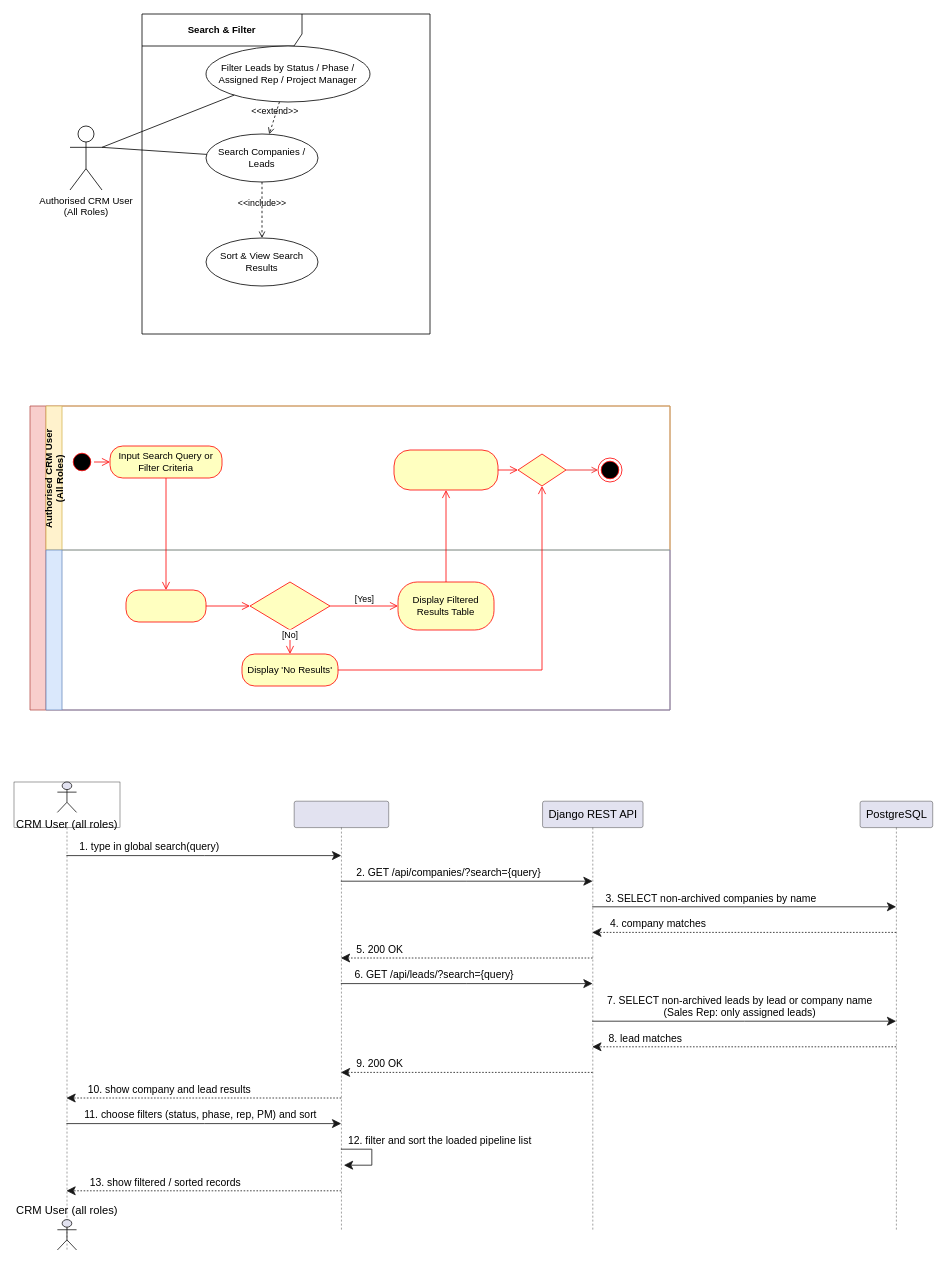
This 946x1264 diagram has some shape labels left out. Here are the shapes that lost their labels. From the top down, the box of each, then its label:
(393, 449, 498, 490): View Filtered Records
(29, 405, 670, 710): Search & Filter Process
(125, 589, 206, 622): Query Database for Matches
(249, 581, 330, 630): Are Records Found?
(45, 549, 670, 710): CRM System
(294, 801, 389, 1231): Browser (React)
